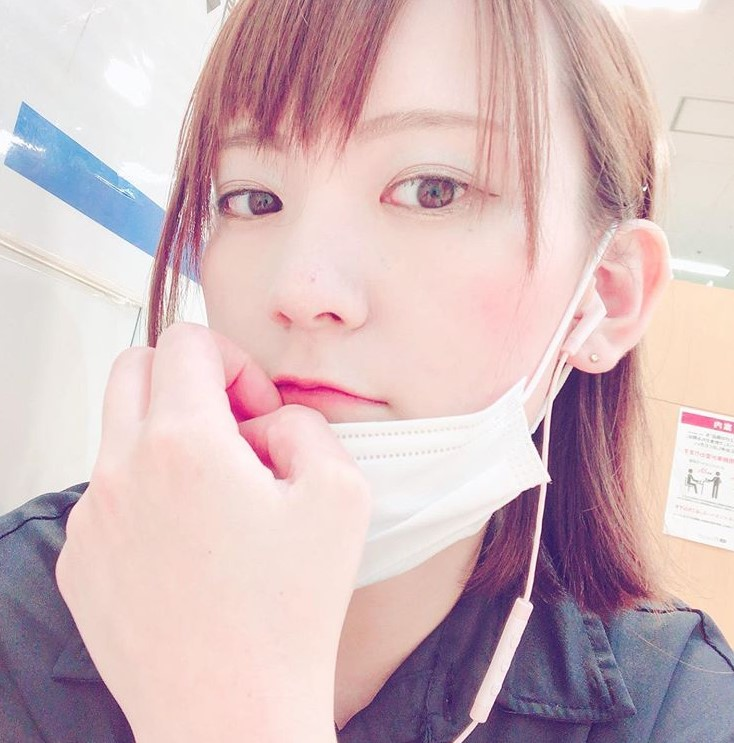face_no_mask: (195, 1, 666, 575)
